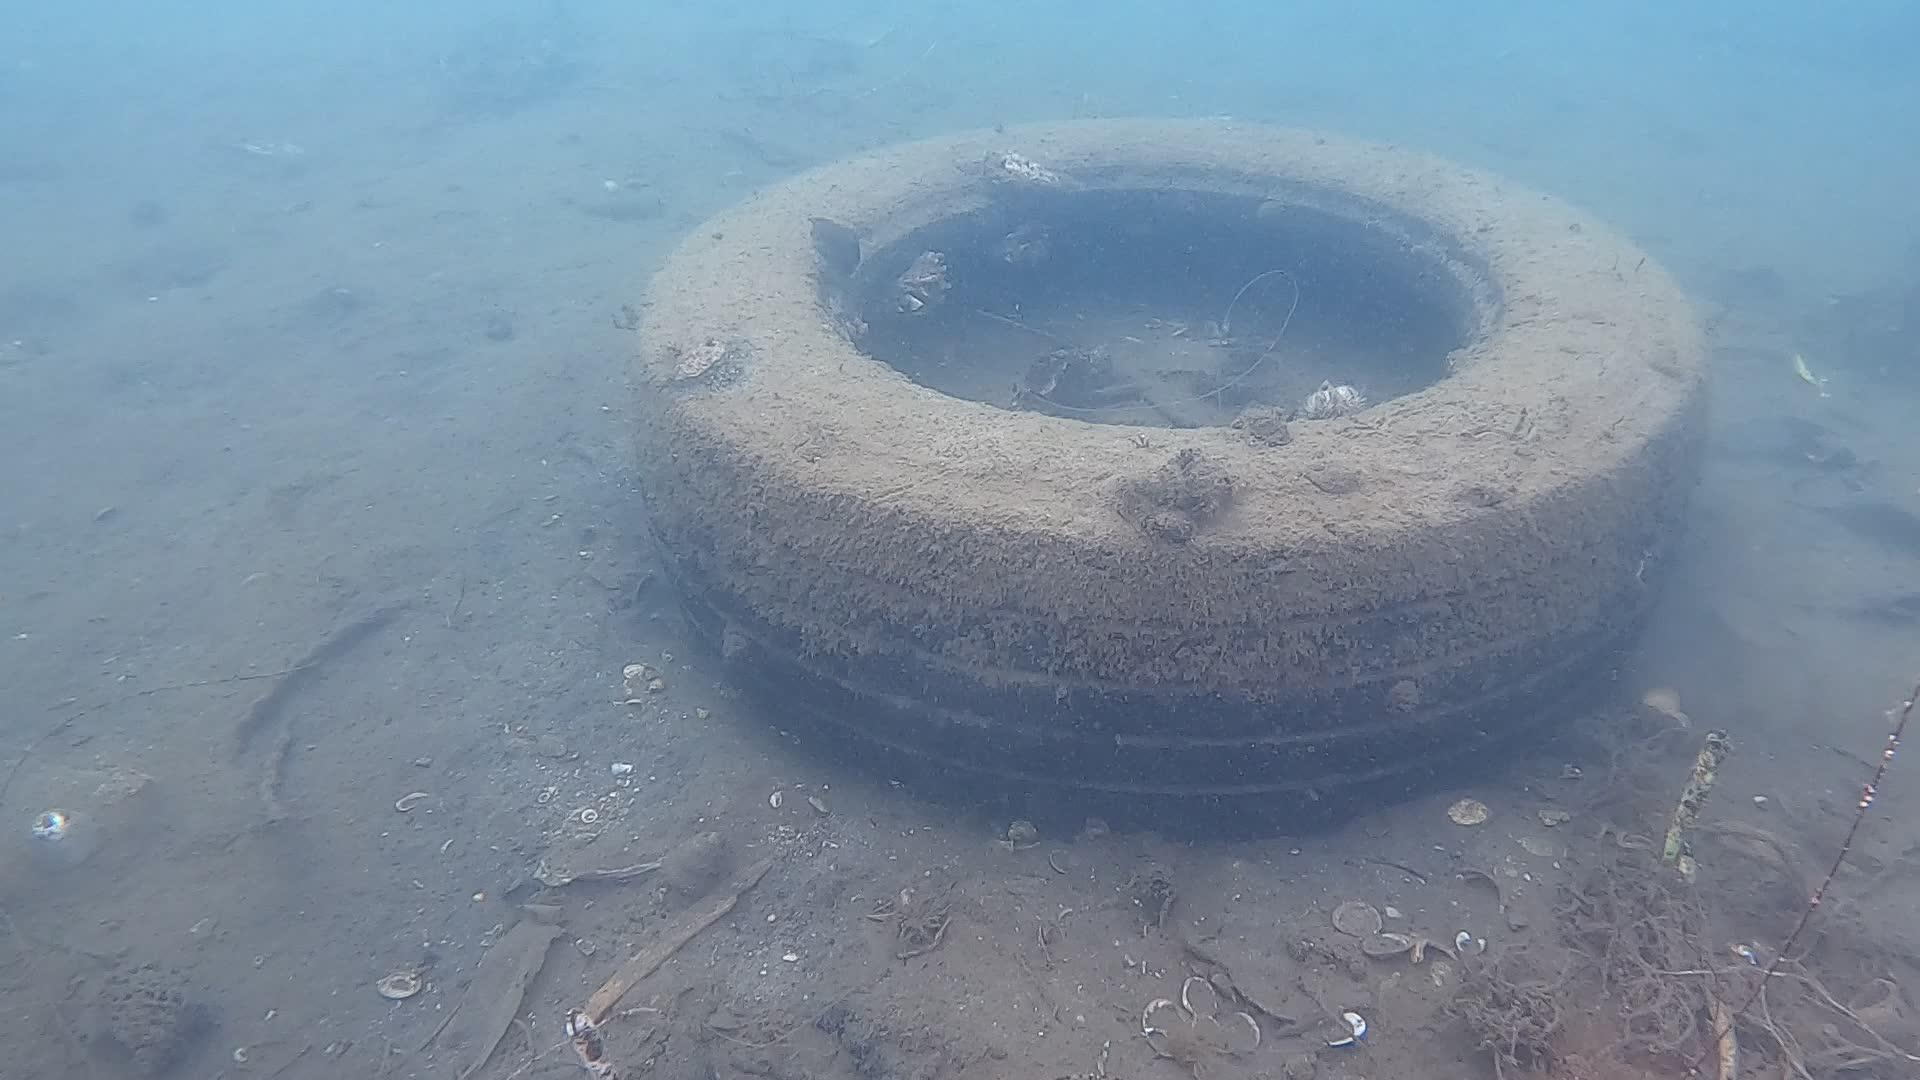tire: (638, 108, 1712, 823)
